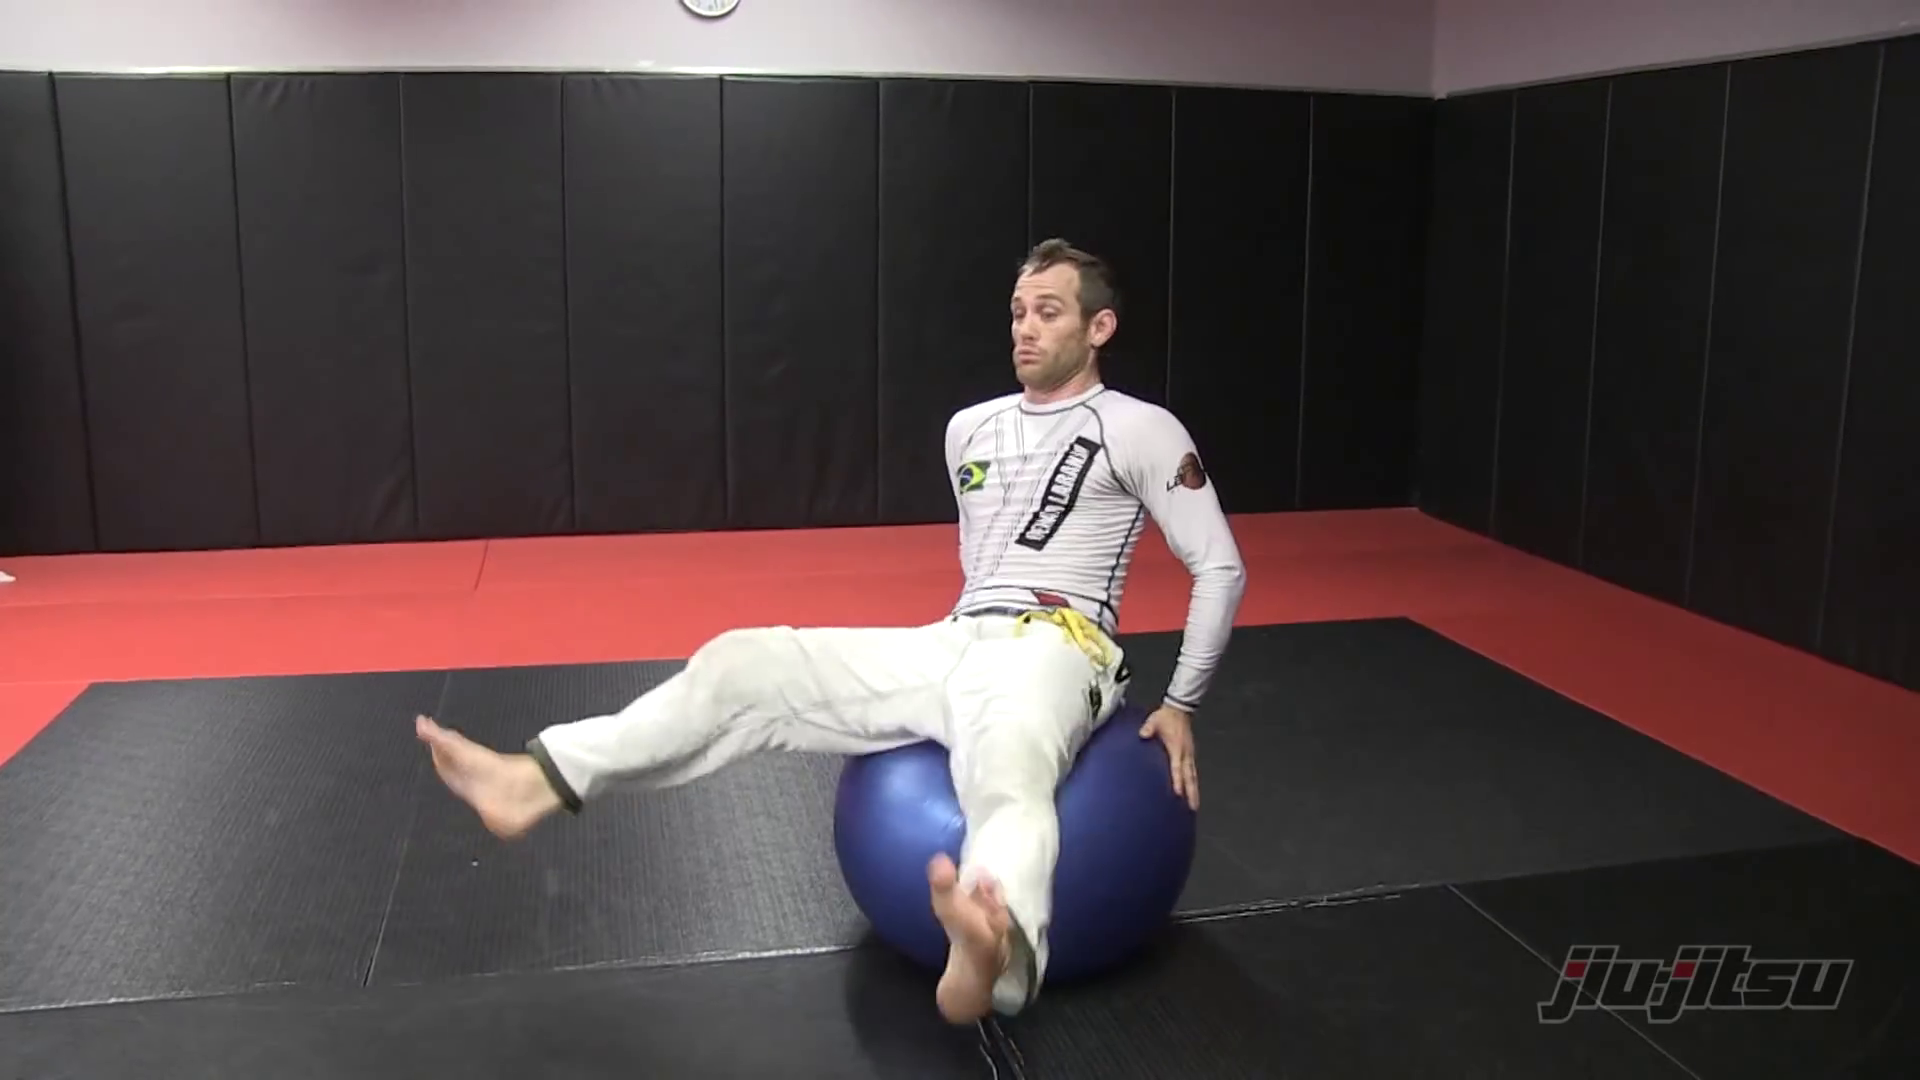yogaball: (816, 676, 1215, 992)
